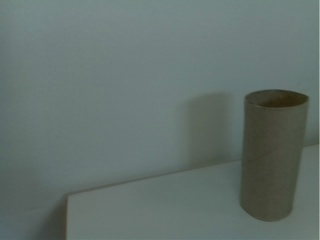rollo papel: (239, 88, 311, 222)
